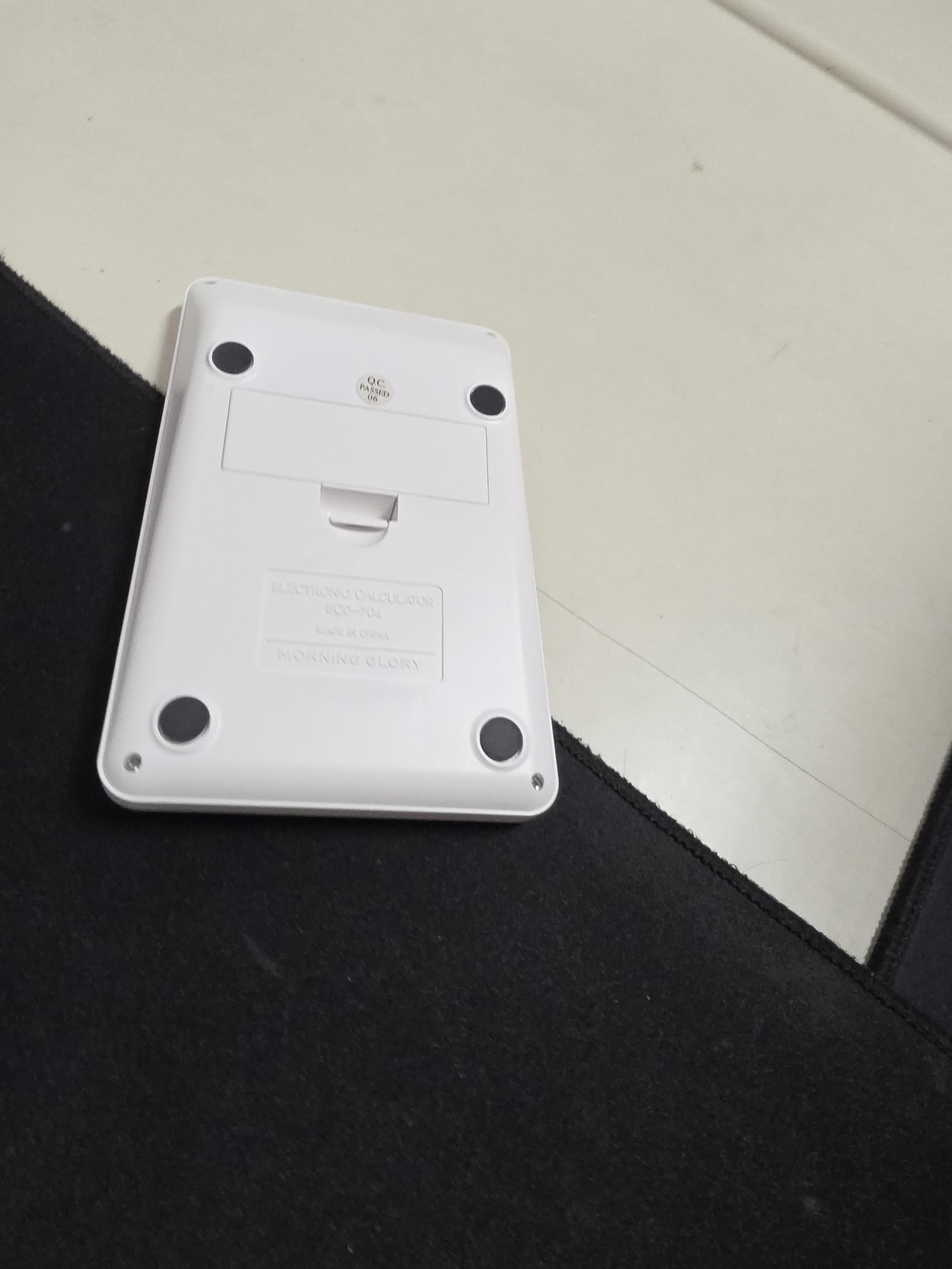calculator: (96, 276, 562, 822)
